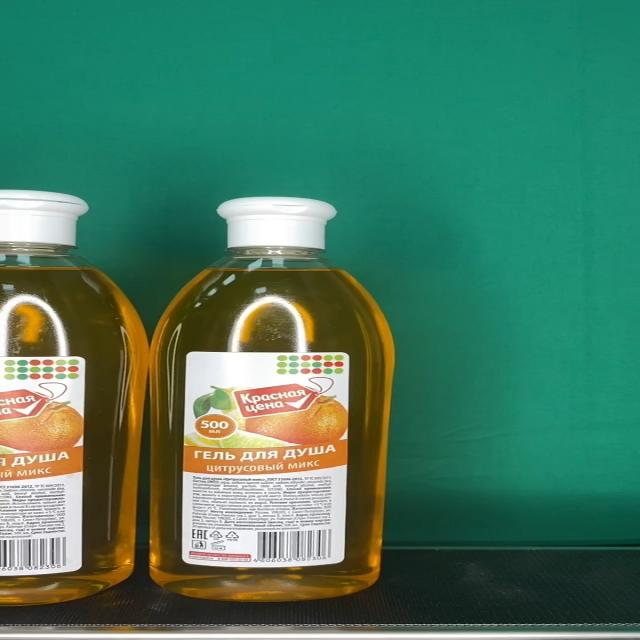Bottle: (148, 197, 399, 602)
Cap: (216, 196, 337, 249)
